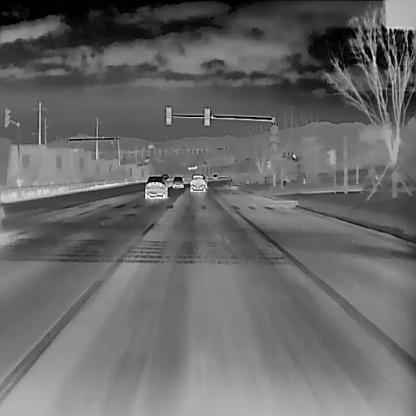car: (144, 173, 168, 197), (189, 172, 206, 191), (171, 175, 184, 187), (161, 172, 169, 182)
